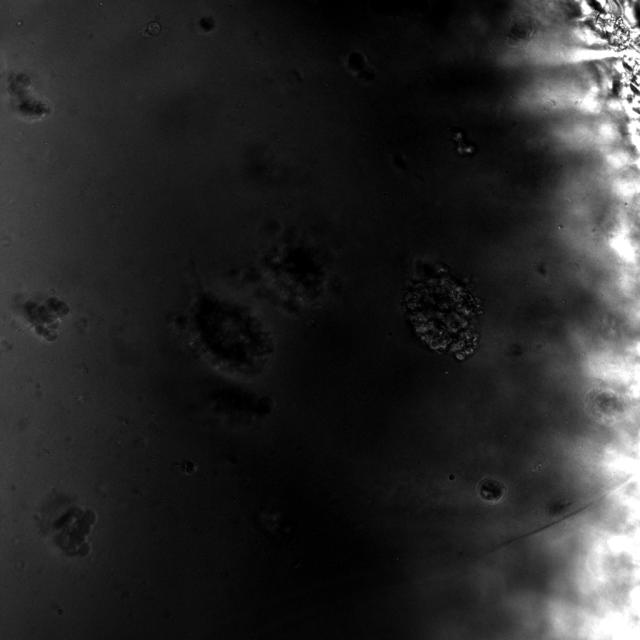organoid: (404, 266, 482, 360), (52, 505, 96, 556), (7, 72, 52, 121), (21, 297, 69, 341), (476, 476, 508, 505), (146, 21, 161, 35)
